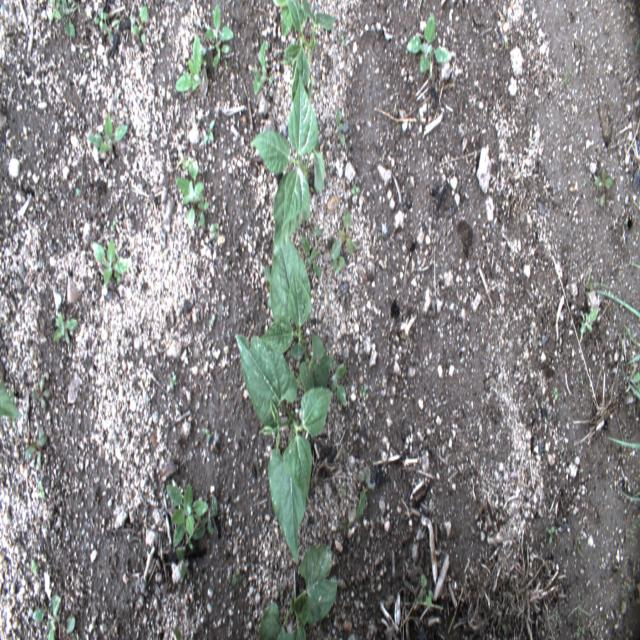crop: (234, 330, 334, 564), (248, 76, 326, 248), (257, 542, 339, 640), (253, 240, 313, 361), (274, 0, 336, 99), (0, 378, 19, 429)
weed: (165, 482, 205, 580), (174, 156, 210, 229), (33, 594, 77, 640), (407, 12, 439, 75), (94, 236, 131, 288), (89, 110, 129, 156), (204, 3, 232, 68), (331, 208, 358, 267), (176, 36, 204, 91), (597, 289, 640, 321), (49, 0, 83, 39), (194, 498, 222, 541), (619, 338, 639, 396), (585, 262, 613, 302), (355, 464, 374, 521), (252, 37, 270, 96), (567, 592, 586, 640), (93, 10, 119, 44), (302, 233, 322, 277), (26, 428, 49, 465), (52, 310, 79, 340), (593, 168, 614, 206), (131, 2, 149, 44), (419, 572, 434, 611), (580, 307, 598, 339), (31, 379, 50, 409), (331, 363, 346, 401), (607, 438, 640, 452), (334, 108, 345, 144), (628, 363, 640, 392), (625, 326, 640, 346), (619, 488, 640, 501), (311, 222, 323, 244), (546, 523, 554, 546), (334, 256, 344, 274), (204, 122, 213, 142), (212, 219, 220, 241), (30, 557, 39, 576), (351, 181, 360, 199), (230, 573, 242, 586), (626, 355, 640, 366), (339, 521, 354, 531), (574, 534, 582, 552), (340, 479, 347, 498), (630, 517, 640, 530), (552, 386, 560, 402), (38, 482, 45, 499), (499, 620, 508, 633), (174, 626, 182, 639), (360, 385, 368, 398), (340, 31, 346, 48), (630, 261, 640, 271), (562, 69, 568, 85), (550, 608, 558, 619), (170, 375, 178, 386), (278, 585, 284, 598), (38, 89, 43, 102), (620, 582, 626, 592), (635, 40, 639, 55), (577, 466, 584, 474), (230, 260, 234, 272)
